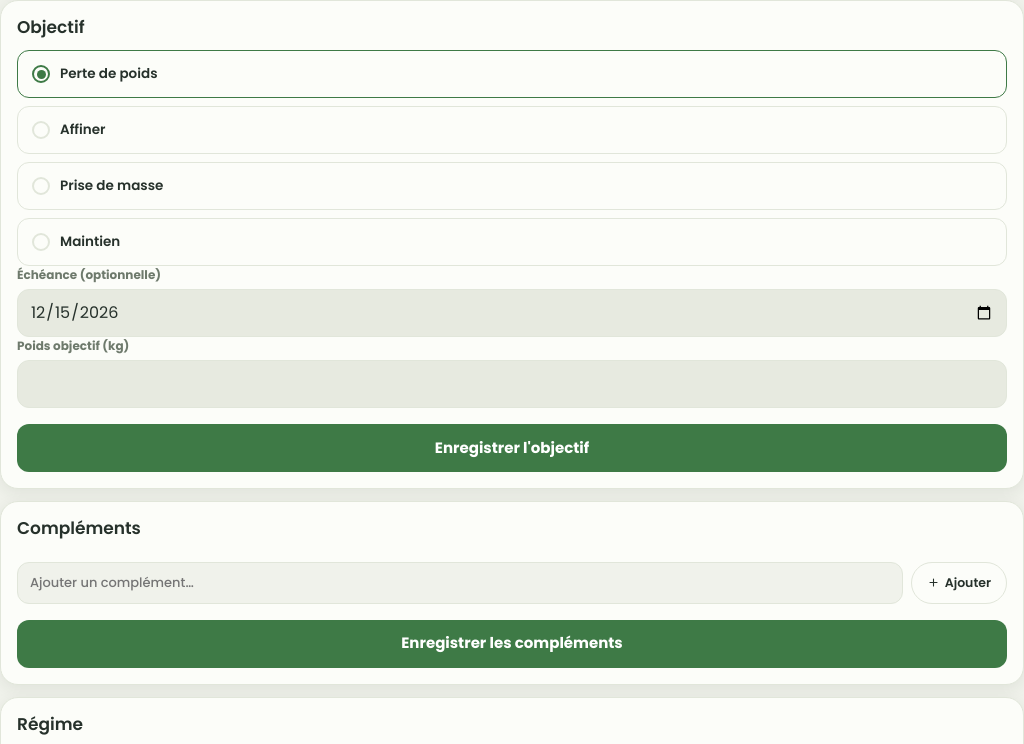
Test: ProfilScreen (unité) › refuse un poids objectif hors bornes avec une erreur explicite
The width and height of the screenshot is (1024, 744).
(page scrolled)
Type "500" into the number field labelled "Poids objectif (kg)".
click(512, 384); type("500")  # box [17,360,1007,408]
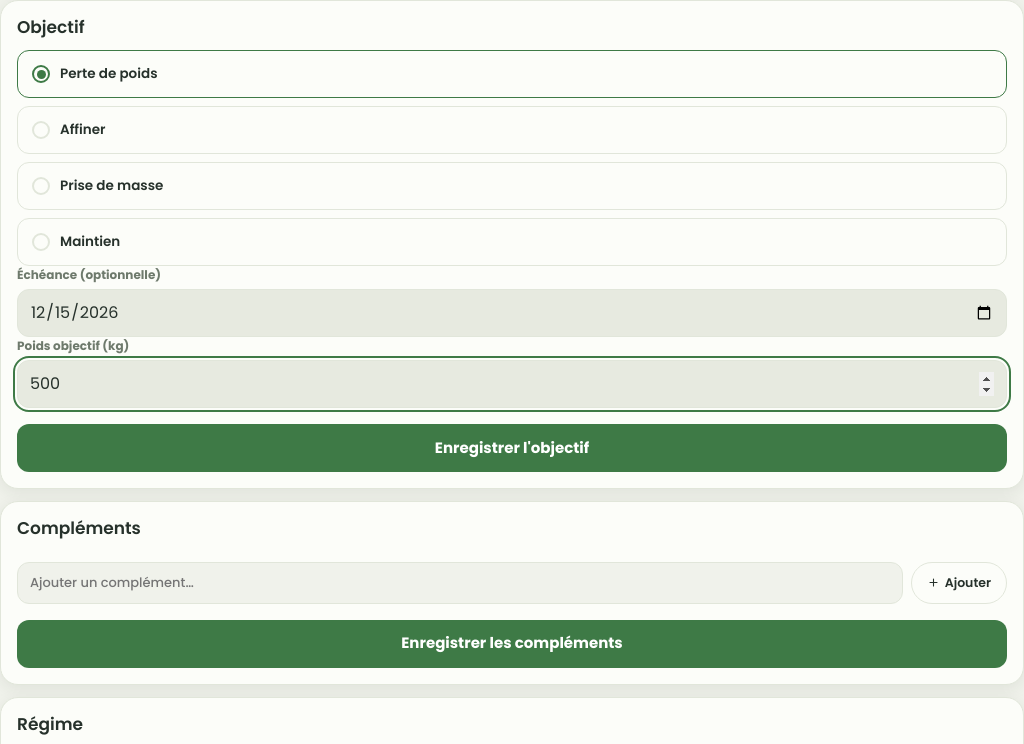
Click the button "Enregistrer l'objectif".
click(512, 448)  # box [17,424,1007,472]
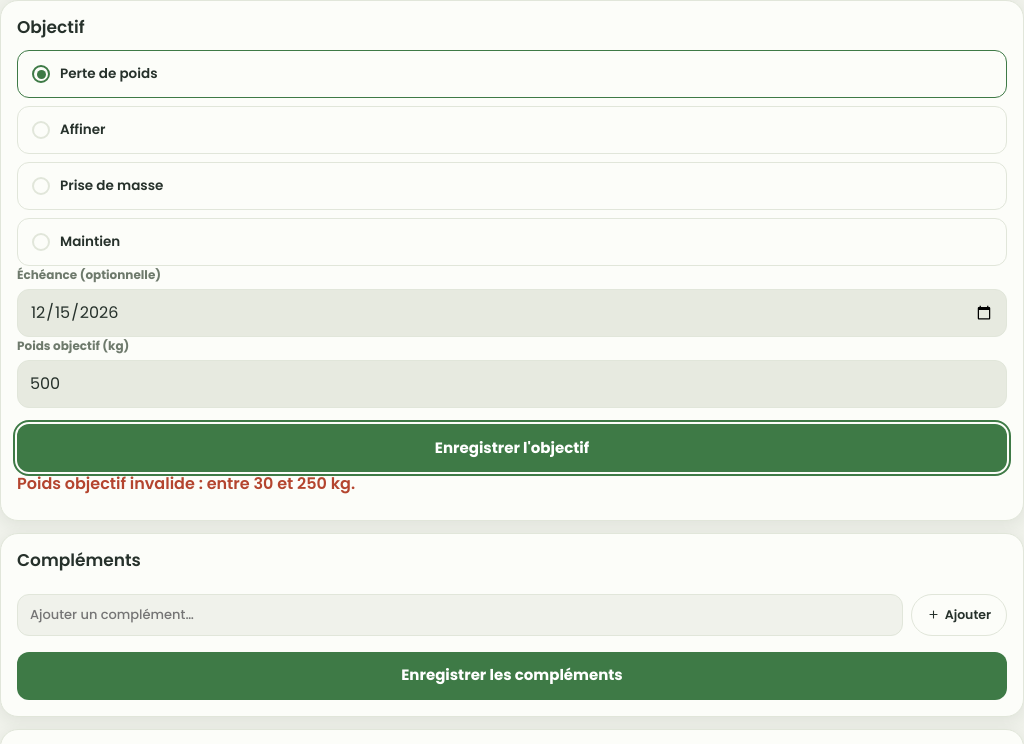
Result: the message shows "Poids objectif" at [17,472,355,495]
